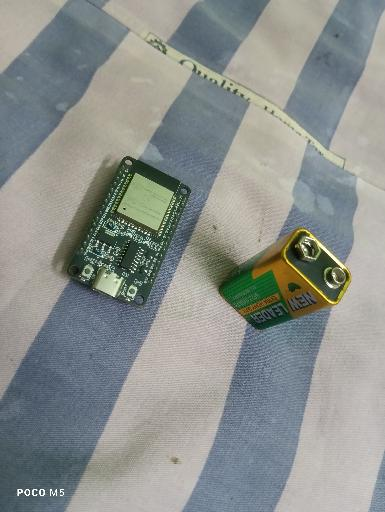Battery: (218, 228, 353, 333)
Esp32: (67, 156, 192, 307)
